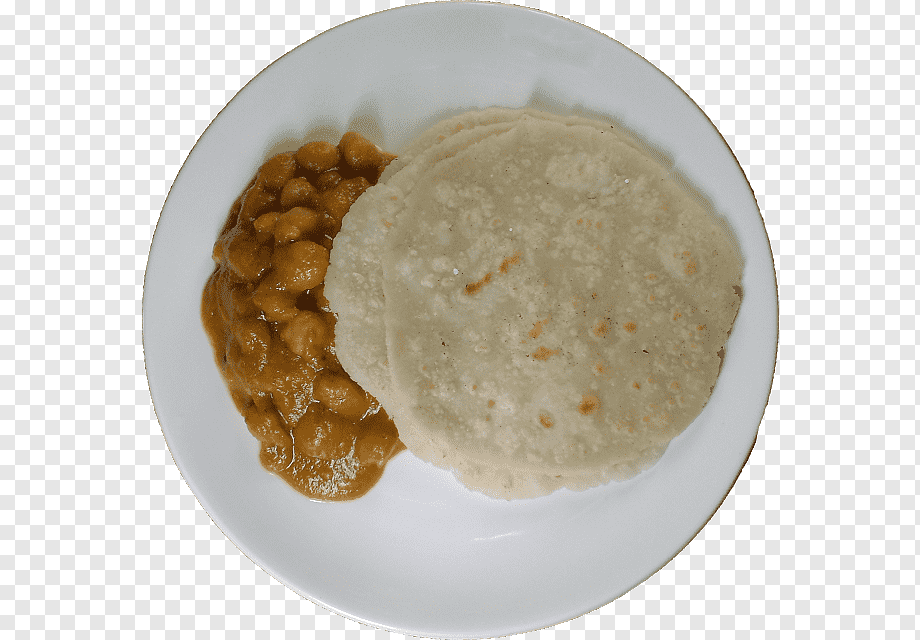curry: (203, 128, 418, 499)
roti: (337, 99, 753, 501)
